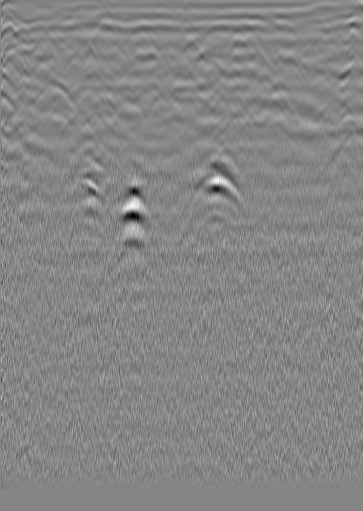가스: (113, 185, 150, 230)
상수: (329, 23, 349, 43)
오수: (36, 25, 56, 45)
우수: (223, 28, 243, 48)
